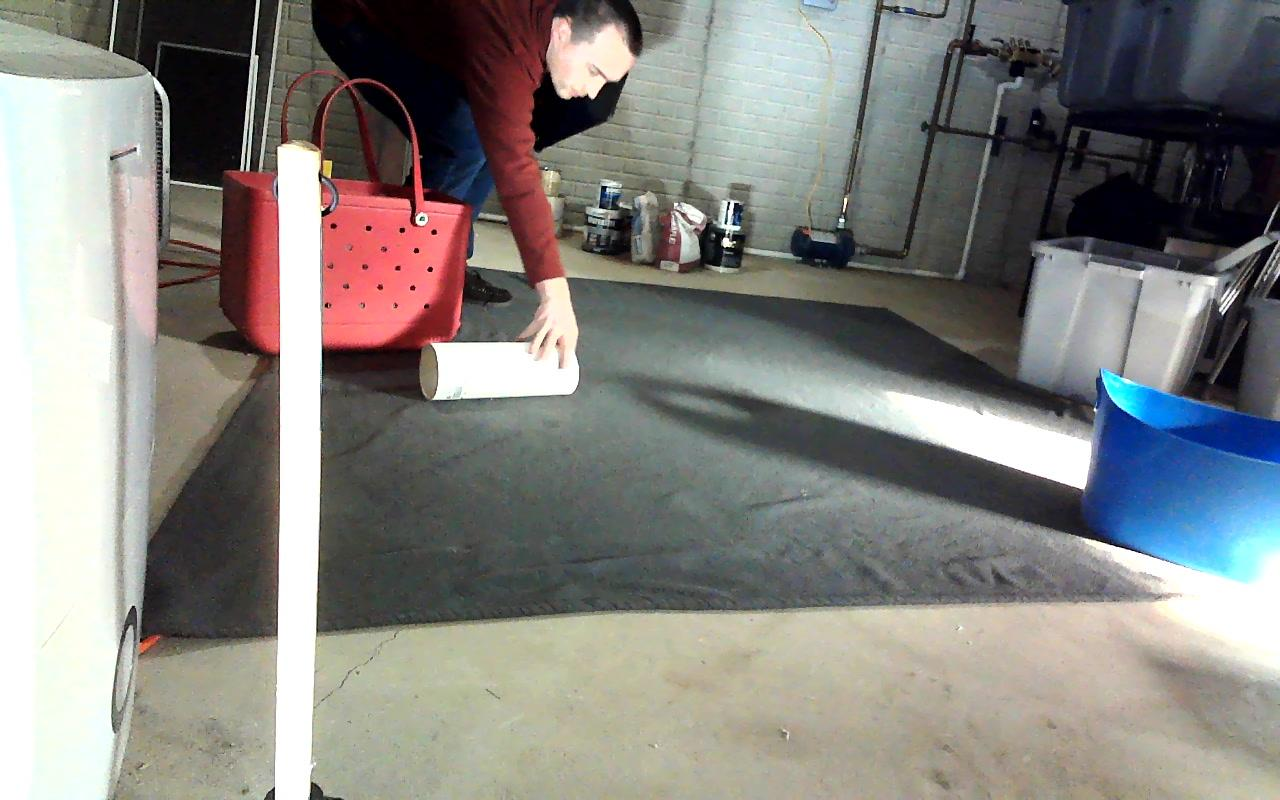coral: (420, 338, 577, 399)
